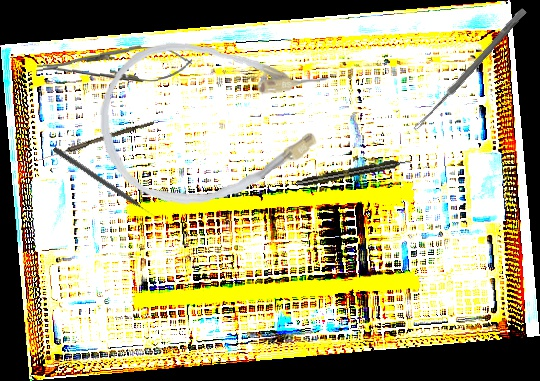Cannula: (95, 34, 337, 209)
Handpiece: (295, 156, 413, 189)
Needle Holder: (36, 43, 193, 86)
Pusher: (51, 146, 158, 221)
Surgical Spoon: (411, 6, 528, 134), (37, 118, 155, 164)
